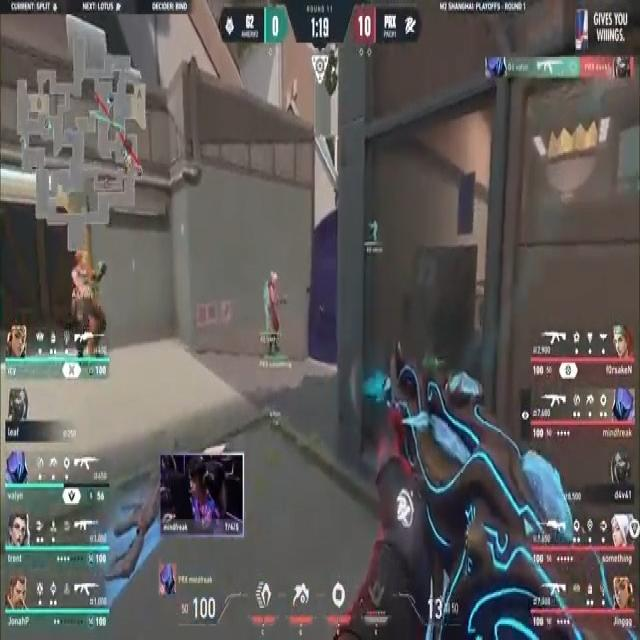ally: (366, 215, 381, 251)
enemy: (70, 248, 119, 372), (262, 267, 288, 350)
